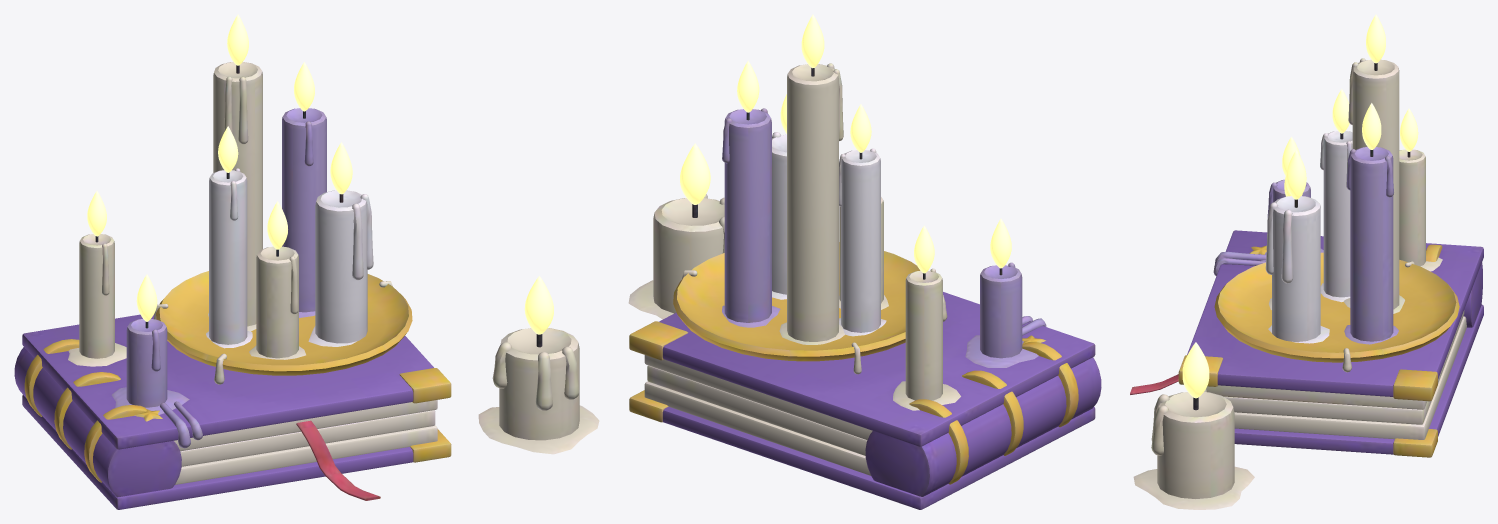
Rendered from candle-cluster.glb.
3 views of the same model, side by side, from view 1: azimuth 30°, elevation 25°; view 2: azimuth 150°, elevation 25°; view 3: azimuth 270°, elevation 25° (orthographic). The views are drawn at different scales.
Parts seen in each view (by area): view 1: candle-cluster_body, candle-cluster_flames; view 2: candle-cluster_body, candle-cluster_flames; view 3: candle-cluster_body, candle-cluster_flames.
Part boxes in pixels (x1,y1,x2,y2): candle-cluster_body: (14,62,599,509); candle-cluster_flames: (87,14,553,334); candle-cluster_body: (628,63,1101,509); candle-cluster_flames: (680,14,1011,273); candle-cluster_body: (1130,58,1483,509); candle-cluster_flames: (1182,14,1418,398).
Size of the model in its own units: 0.4494 by 0.3658 by 0.3118.
2 materials, 1 textured.
